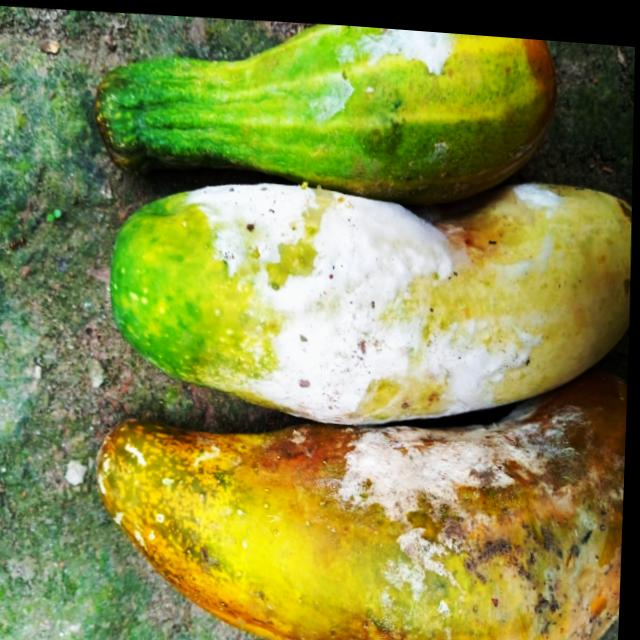Pythium-Fruit-Rot: (184, 157, 569, 435), (307, 377, 630, 640), (313, 19, 456, 138)
